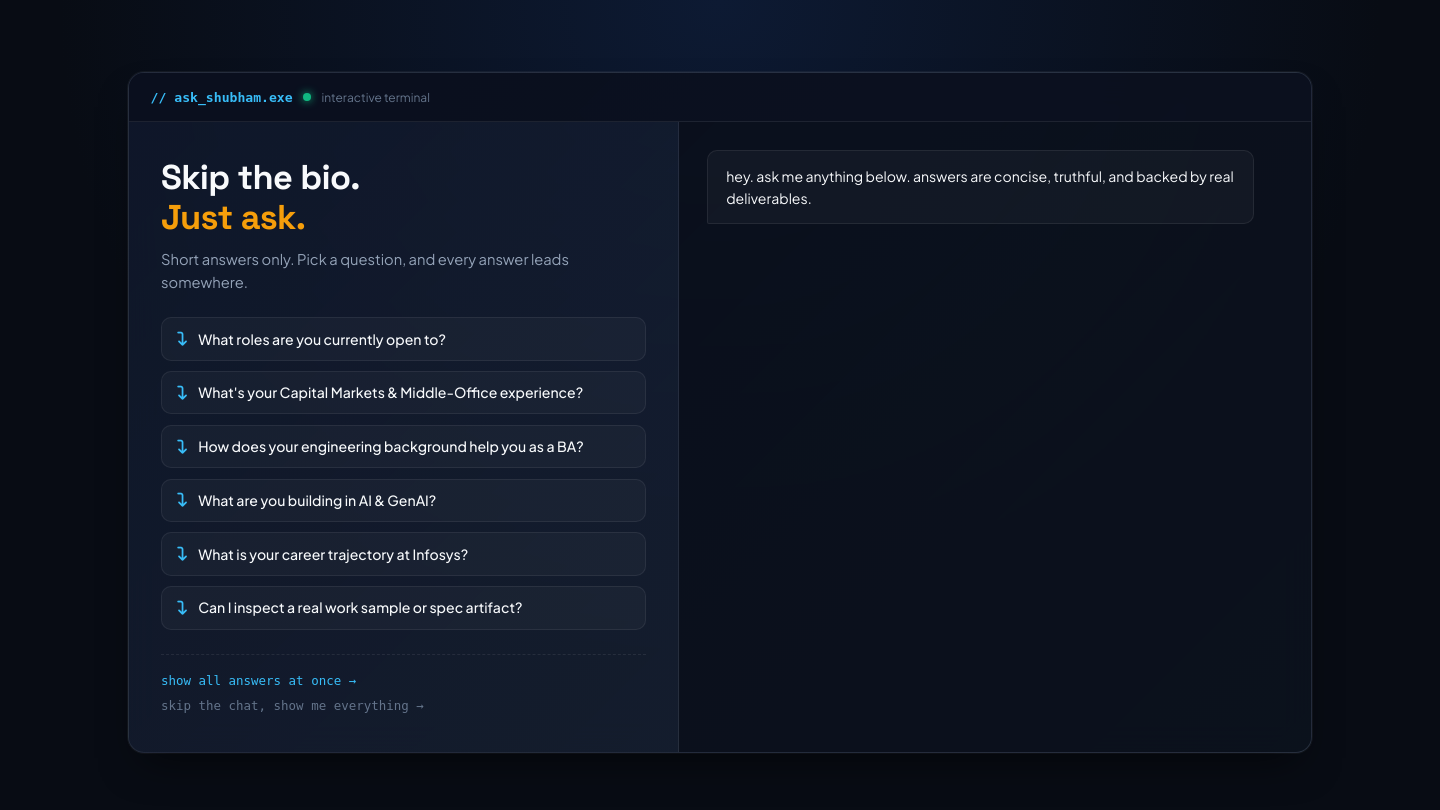
Test: Techno-Functional Portfolio Comprehensive Regression Suite › AskShubham Component › interactively asks a question, displays typing state, and shows concise answer with action link
Click the button "What roles are you currently open to?" at [403, 339], box [161, 317, 646, 361]
Wait 500 ms
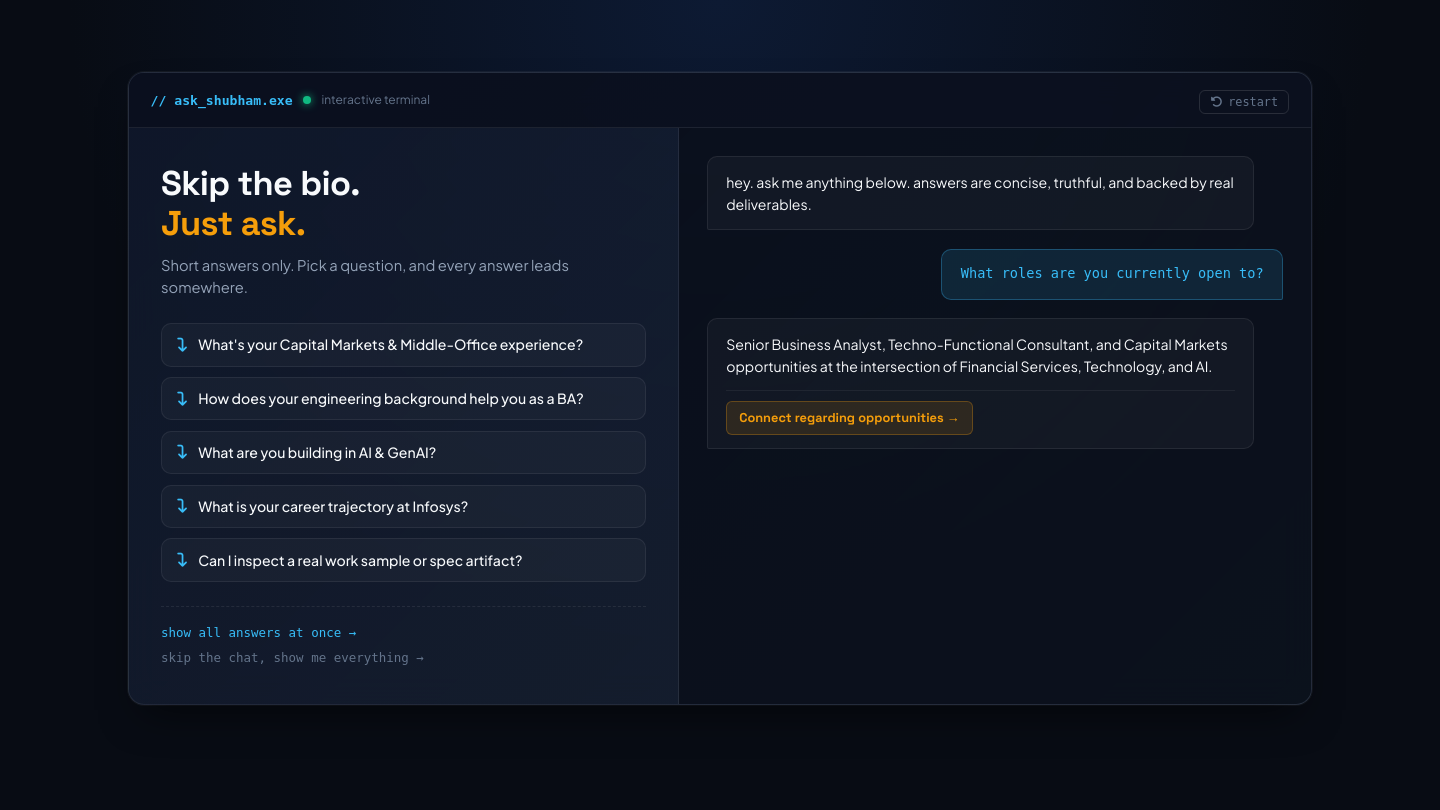
Check: the text "Senior Business Analyst, Techno-Functional Consultant" is shown, box [726, 335, 1228, 375]
Check: the link "Connect regarding opportunities →" is shown, box [726, 401, 973, 435]
